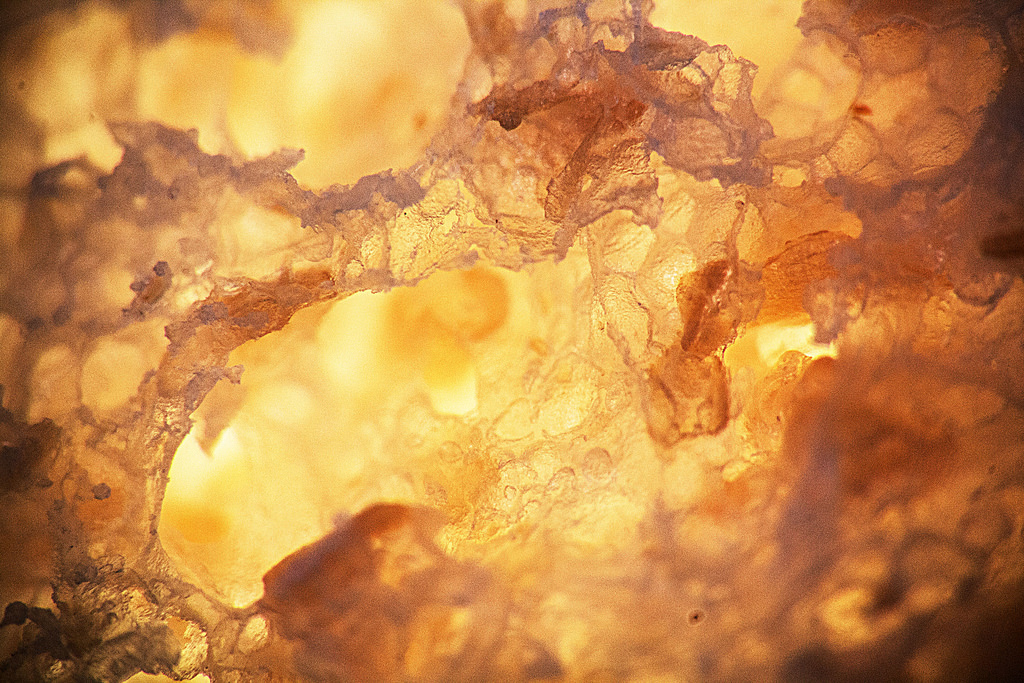fried egg: (109, 28, 996, 654)
